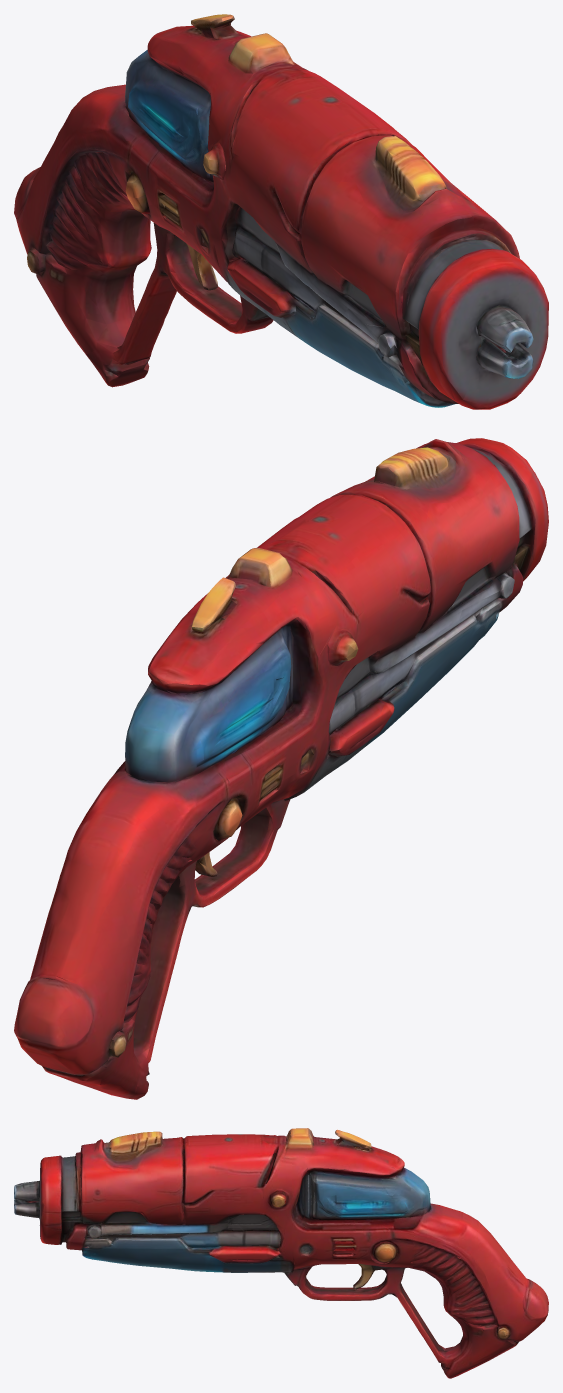
File: plasma_defender.medium.glb
3 renders of one model, top to bottom at view 1: azimuth 30°, elevation 25°; view 2: azimuth 150°, elevation 25°; view 3: azimuth 270°, elevation 25°, orthographic. The views are drawn at different scales.
Visible parts, largest first — view 1: model; view 2: model; view 3: model.
Part boxes in pixels (box(x1,y1,x2,y2)): model: box(14, 14, 548, 409); model: box(14, 438, 548, 1099); model: box(14, 1128, 548, 1378).
Bounding box in the file's own units: 0.0503 × 0.1414 × 0.28.
1 material, 1 textured.
